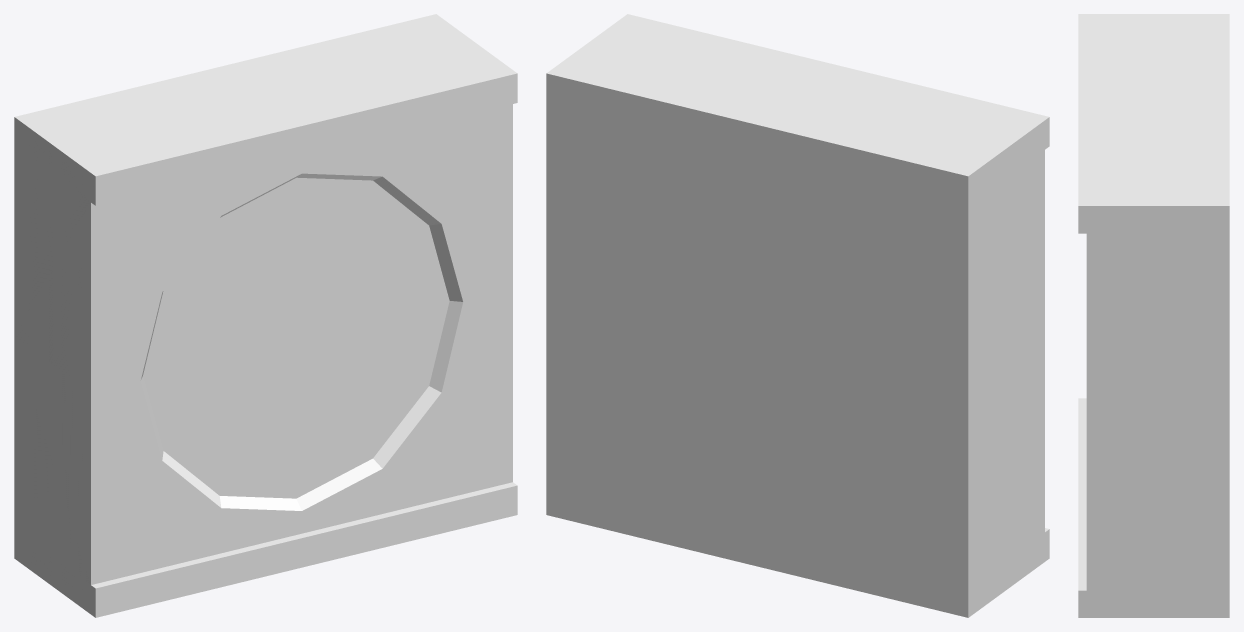
Rendered from Wall_CircleBubble.glb.
The picture shows the model from 3 angles, left to right: view 1: azimuth 30°, elevation 25°; view 2: azimuth 150°, elevation 25°; view 3: azimuth 270°, elevation 25°; orthographic projection. The views are drawn at different scales.
Parts seen in each view (by area): view 1: Wall_CircleBubble; view 2: Wall_CircleBubble; view 3: Wall_CircleBubble.
Part boxes in pixels (bbox=[...]): Wall_CircleBubble: bbox=[14, 14, 517, 617]; Wall_CircleBubble: bbox=[546, 14, 1049, 617]; Wall_CircleBubble: bbox=[1078, 14, 1229, 617].
Size of the model in its own units: 3 by 3 by 1.
1 material, 1 textured.
